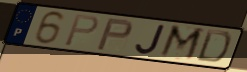6: (32, 10, 67, 46)
D: (194, 28, 233, 65)
J: (134, 23, 167, 56)
M: (156, 23, 206, 63)
P: (94, 17, 135, 52), (62, 13, 101, 48)
